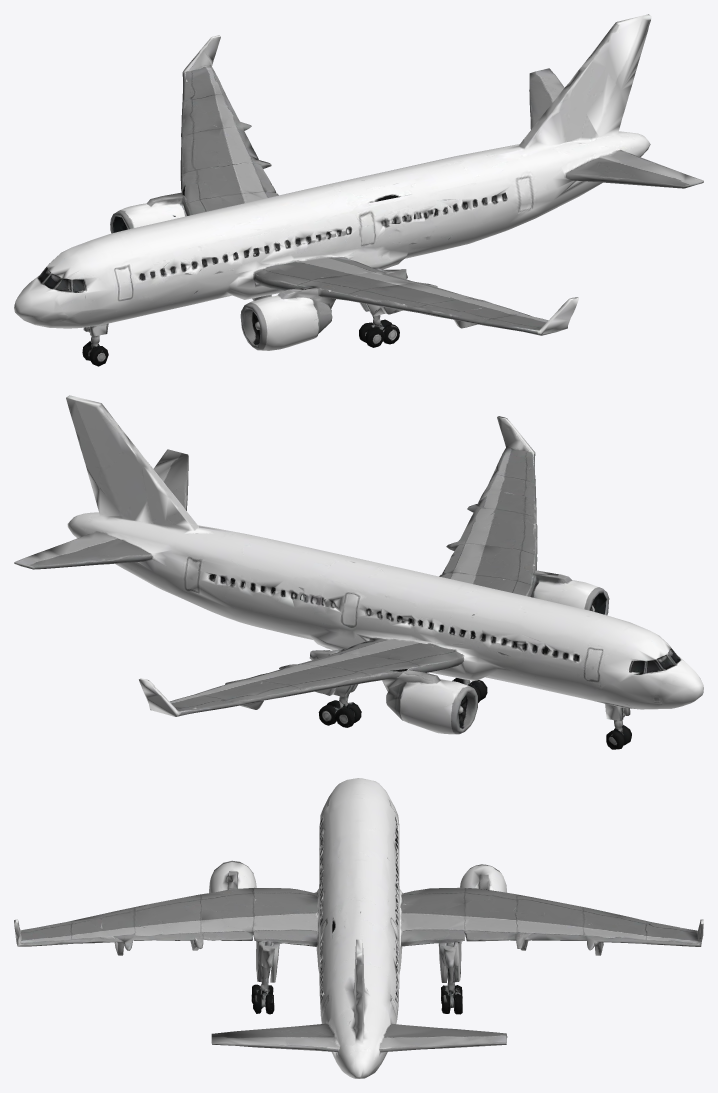
Rendered from airliner-b.glb.
The picture shows the model from 3 angles, top to bottom: view 1: azimuth 30°, elevation 25°; view 2: azimuth 150°, elevation 25°; view 3: azimuth 270°, elevation 25°; orthographic projection. The views are drawn at different scales.
Size of the model in its own units: 1.9 by 0.6147 by 1.87.
Materials: 1 (1 with a texture image).
